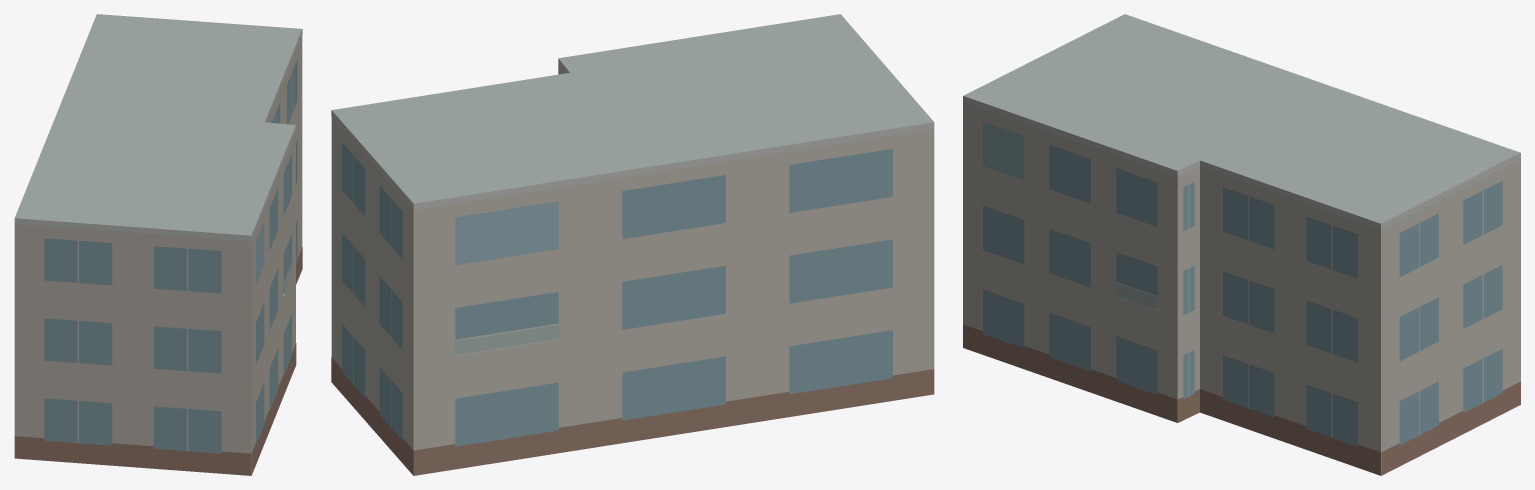
Rendered from survey-upis-32911079.glb.
3 views of the same model, side by side, from view 1: azimuth 30°, elevation 25°; view 2: azimuth 150°, elevation 25°; view 3: azimuth 270°, elevation 25° (orthographic). The views are drawn at different scales.
Visible parts, largest first — view 1: survey-upis-32911079.tmp; view 2: survey-upis-32911079.tmp; view 3: survey-upis-32911079.tmp.
Part boxes in pixels (bbox=[...]): survey-upis-32911079.tmp: bbox=[14, 14, 302, 475]; survey-upis-32911079.tmp: bbox=[331, 14, 934, 475]; survey-upis-32911079.tmp: bbox=[963, 14, 1520, 475].
Bounding box in the file's own units: 18.22 × 10.2 × 20.47.
